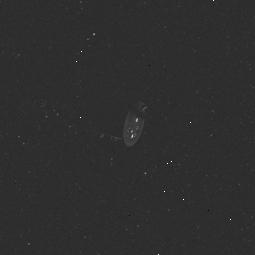proba_3_ocs: (78, 90, 160, 149)
